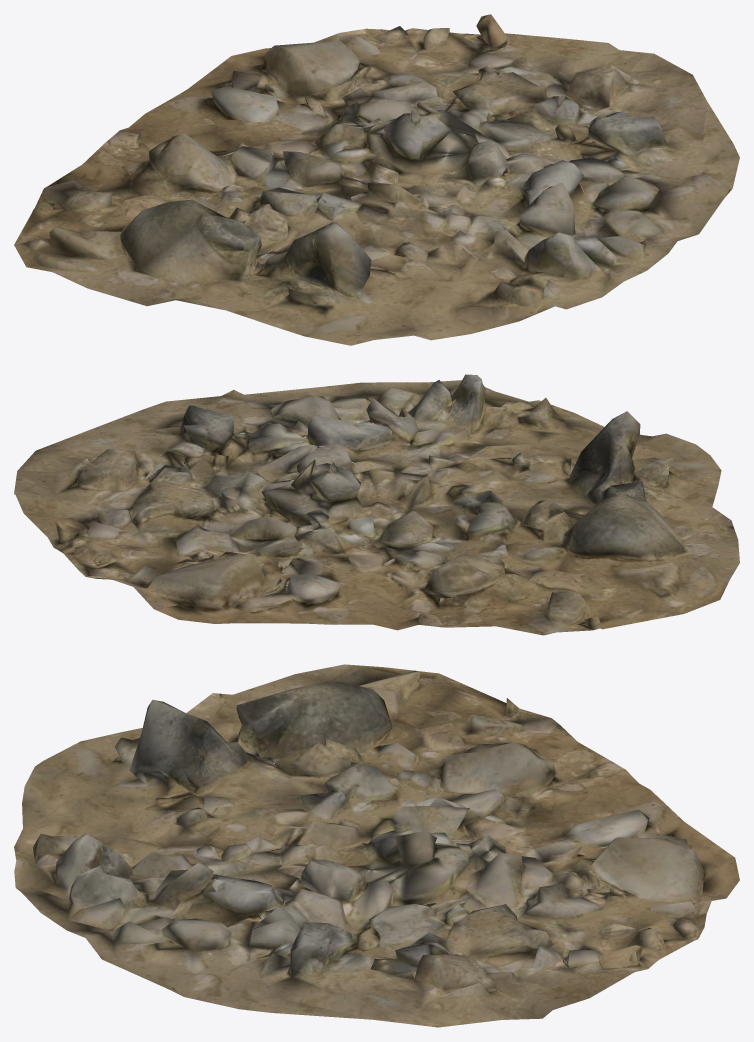
Rendered from sand_rocks_small_01.glb.
3 renders of one model, top to bottom at view 1: azimuth 30°, elevation 25°; view 2: azimuth 150°, elevation 25°; view 3: azimuth 270°, elevation 25°, orthographic. The views are drawn at different scales.
Visible parts, largest first — view 1: sand_rocks_small_01_LOD0; view 2: sand_rocks_small_01_LOD0; view 3: sand_rocks_small_01_LOD0.
Part boxes in pixels (bbox=[...]): sand_rocks_small_01_LOD0: bbox=[14, 14, 739, 345]; sand_rocks_small_01_LOD0: bbox=[14, 374, 739, 635]; sand_rocks_small_01_LOD0: bbox=[14, 664, 739, 1027].
Size of the model in its own units: 4.63 by 0.5285 by 3.87.
1 material, 1 textured.
